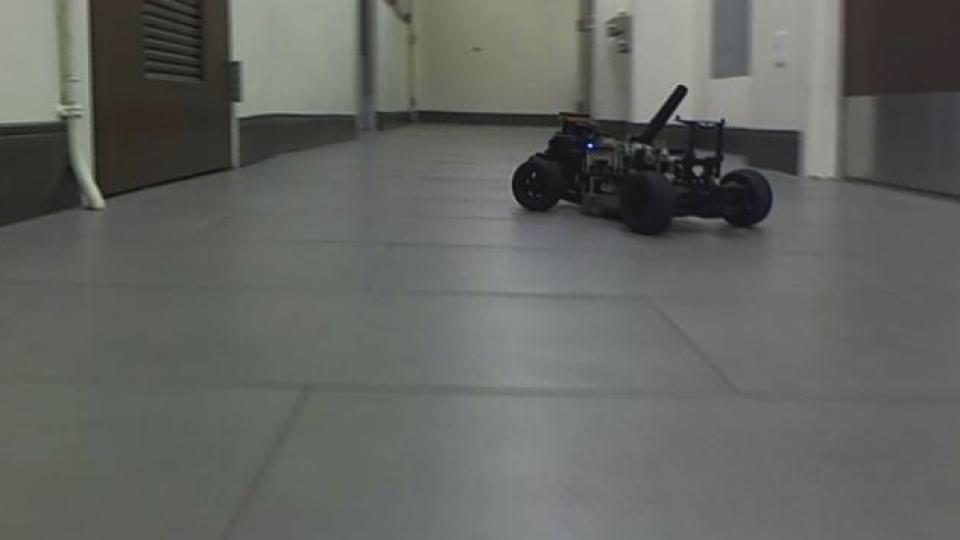car: (510, 82, 776, 238)
